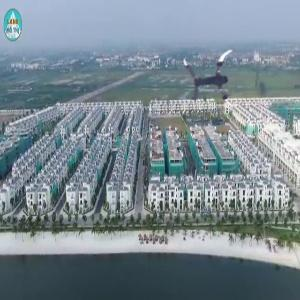drone: (185, 48, 251, 114)
